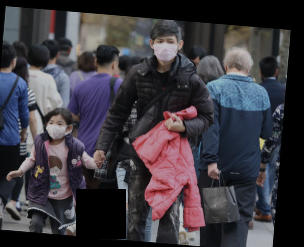with_mask: (150, 36, 179, 61), (43, 119, 66, 140)
